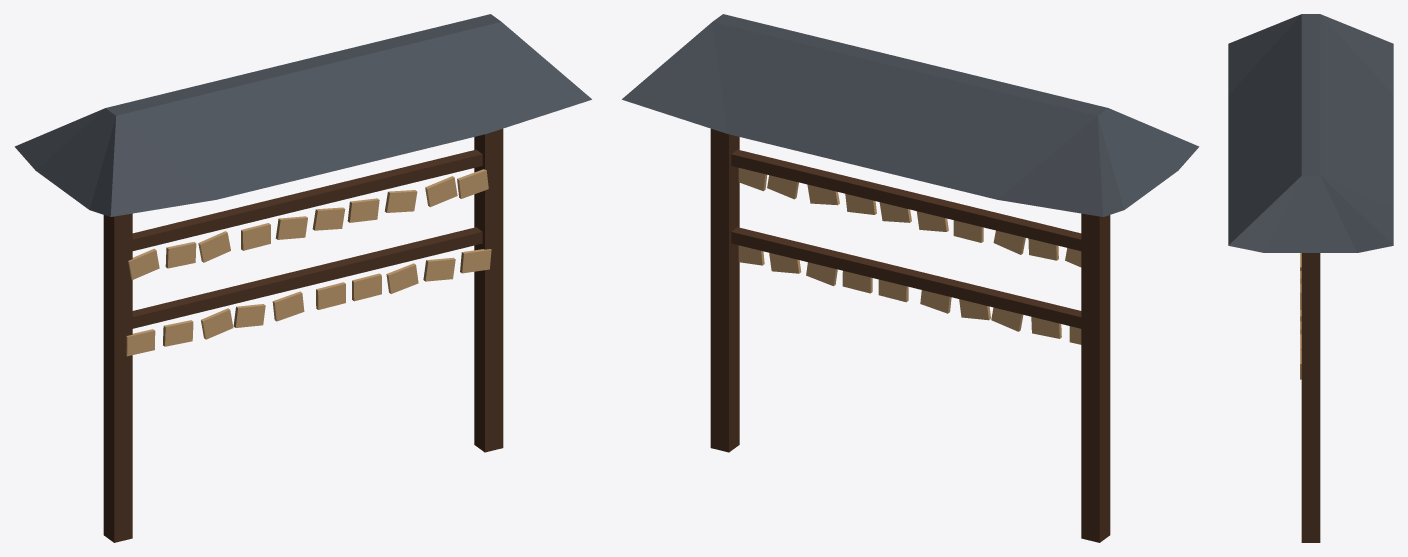
File: ema.glb
3 renders of one model, left to right at view 1: azimuth 30°, elevation 25°; view 2: azimuth 150°, elevation 25°; view 3: azimuth 270°, elevation 25°, orthographic. The views are drawn at different scales.
Visible parts, largest first — view 1: ema; view 2: ema; view 3: ema.
Part boxes in pixels (x1=…): ema: x1=14, y1=14, x2=591, y2=542; ema: x1=622, y1=14, x2=1199, y2=542; ema: x1=1228, y1=14, x2=1393, y2=542.
Bounding box in the file's own units: 2.6 × 2.2 × 0.9.
